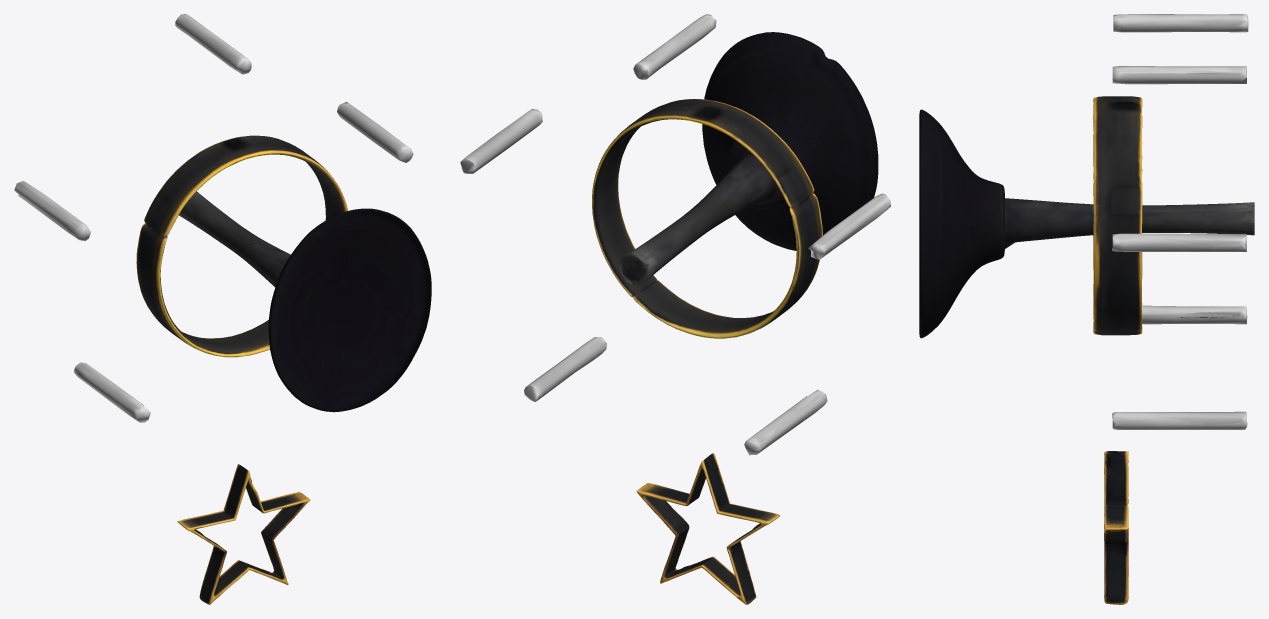
File: stolas-sigilo.glb
3 views of the same model, side by side, from view 1: azimuth 30°, elevation 25°; view 2: azimuth 150°, elevation 25°; view 3: azimuth 270°, elevation 25° (orthographic). The views are drawn at different scales.
Parts seen in each view (by area): view 1: tripo_node_f4e4bd64-88ad-41ac-9bff-4b32894f90b9; view 2: tripo_node_f4e4bd64-88ad-41ac-9bff-4b32894f90b9; view 3: tripo_node_f4e4bd64-88ad-41ac-9bff-4b32894f90b9.
Part boxes in pixels (x1=…): tripo_node_f4e4bd64-88ad-41ac-9bff-4b32894f90b9: x1=14, y1=14, x2=431, y2=604; tripo_node_f4e4bd64-88ad-41ac-9bff-4b32894f90b9: x1=460, y1=14, x2=890, y2=604; tripo_node_f4e4bd64-88ad-41ac-9bff-4b32894f90b9: x1=919, y1=14, x2=1254, y2=604.
Bounding box in the file's own units: 0.6467 × 0.9795 × 0.5223.
1 material, 1 textured.
